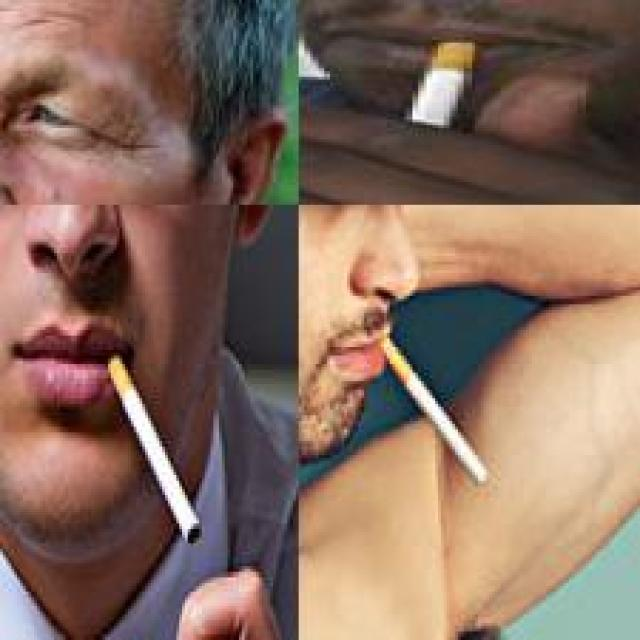smoking: (100, 341, 202, 546), (380, 330, 490, 481), (406, 28, 484, 131)
